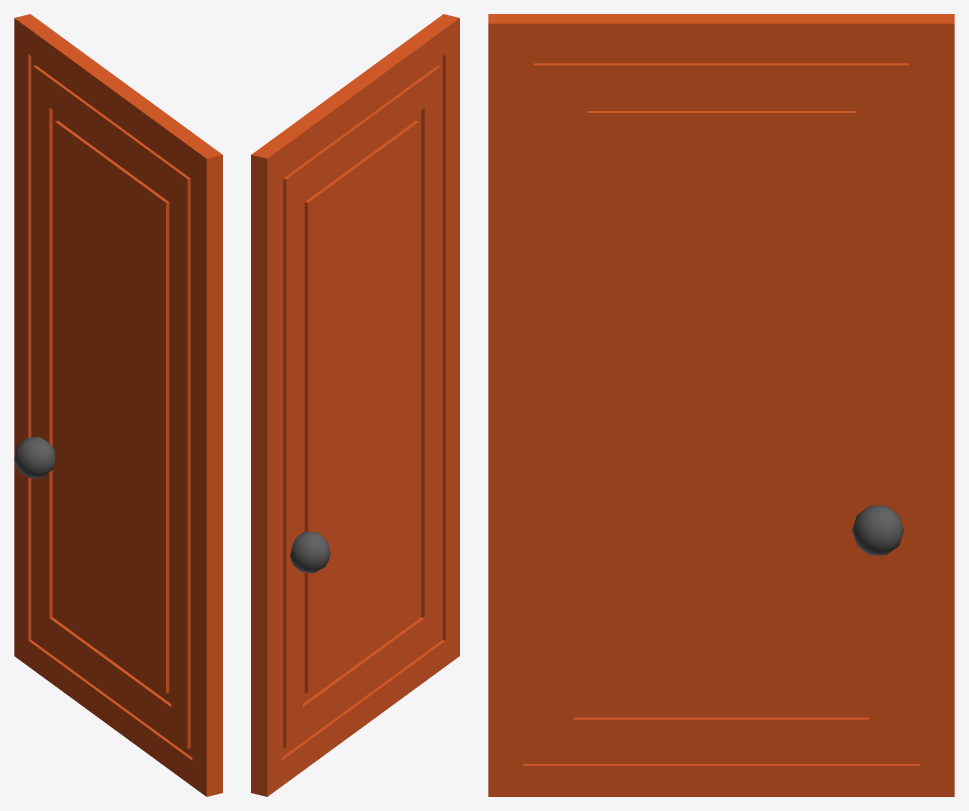
The model's file is Door.glb.
3 renders of one model, left to right at view 1: azimuth 30°, elevation 25°; view 2: azimuth 150°, elevation 25°; view 3: azimuth 270°, elevation 25°, orthographic. The views are drawn at different scales.
Visible parts, largest first — view 1: Door, Icosphere; view 2: Door, Icosphere; view 3: Door, Icosphere.
Boxes of the visible parts, left/top/right/bottom form: Door: left=14, top=14, right=222, bottom=796; Icosphere: left=14, top=436, right=54, bottom=478; Door: left=251, top=14, right=459, bottom=796; Icosphere: left=290, top=531, right=330, bottom=573; Door: left=488, top=14, right=954, bottom=796; Icosphere: left=852, top=505, right=904, bottom=555.
Bounding box in the file's own units: 0.735 × 6.31 × 3.45.
